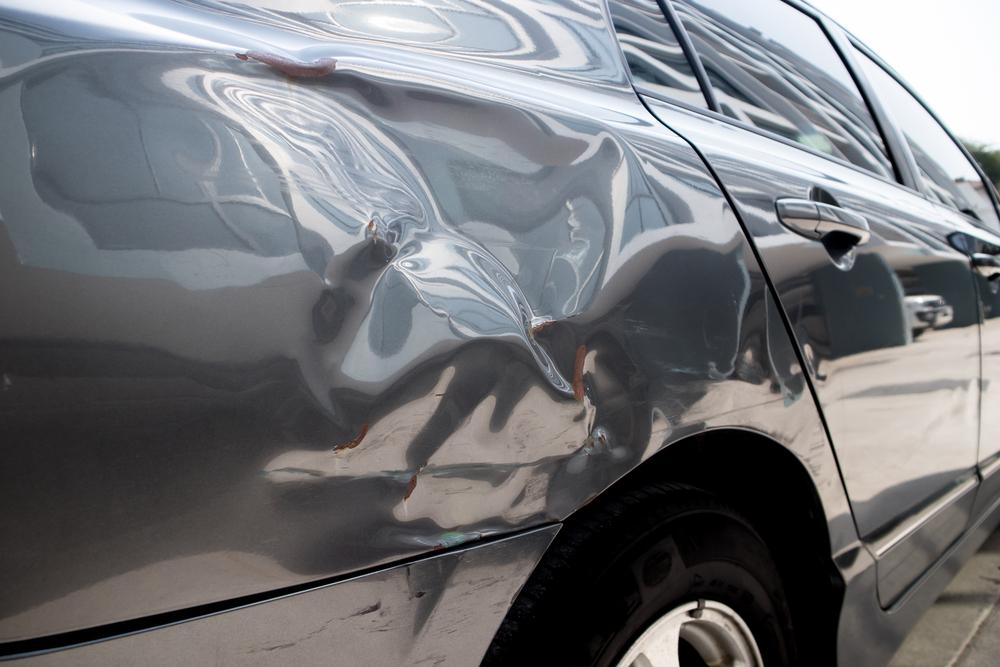dent: (146, 48, 741, 530)
